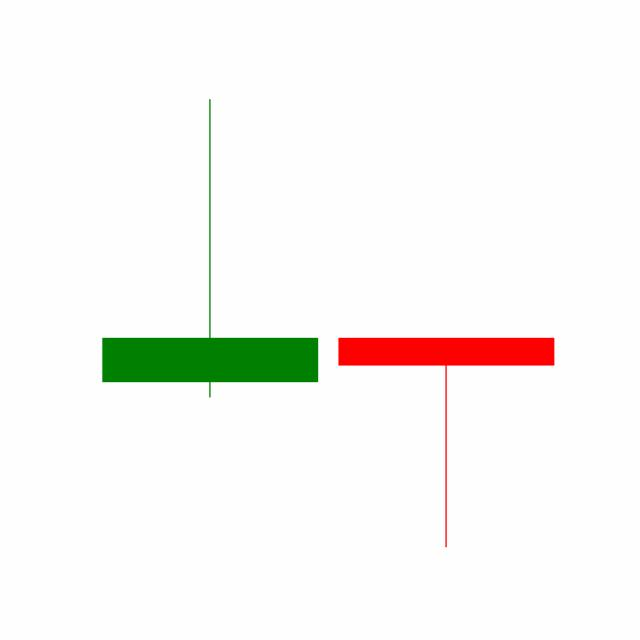Dragonfly Doji: (327, 334, 565, 550)
